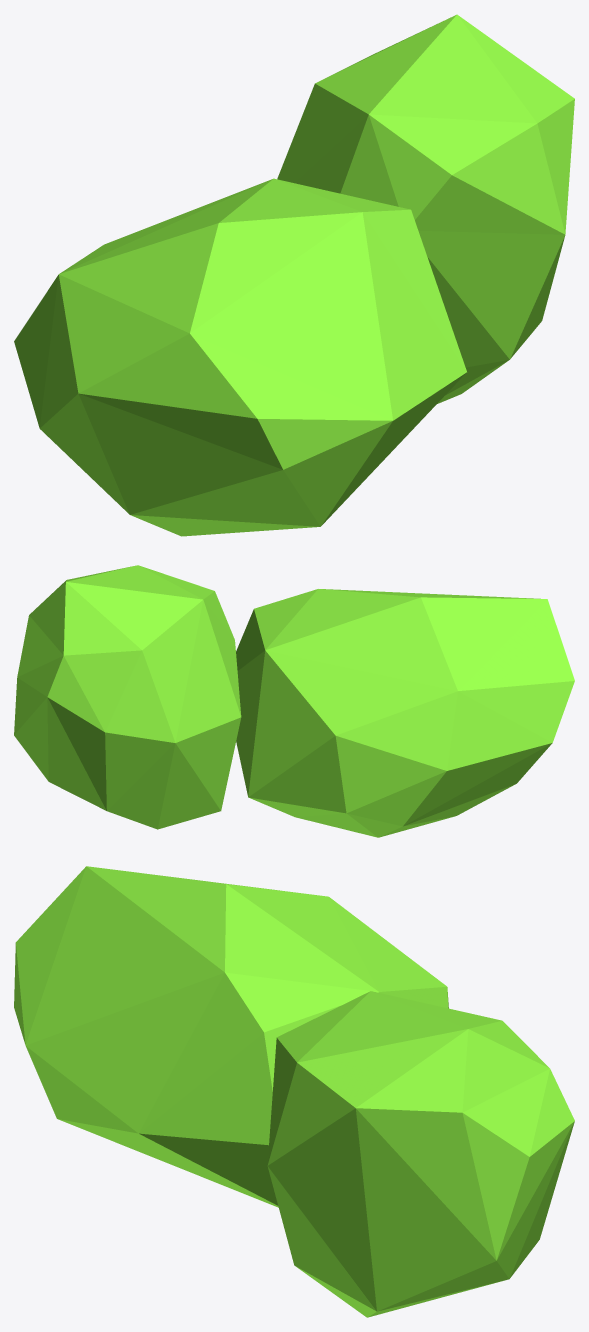
File: bush_small1.fbx
The picture shows the model from 3 angles, top to bottom: view 1: azimuth 30°, elevation 25°; view 2: azimuth 150°, elevation 25°; view 3: azimuth 270°, elevation 25°; orthographic projection. The views are drawn at different scales.
Visible parts, largest first — view 1: bush1; view 2: bush1; view 3: bush1.
Boxes of the visible parts, box(x1,y1,x2,y2) form: bush1: box(14, 14, 574, 536); bush1: box(14, 565, 574, 837); bush1: box(14, 866, 574, 1317).
Size of the model in its own units: 0.9925 by 0.5264 by 0.8395.
